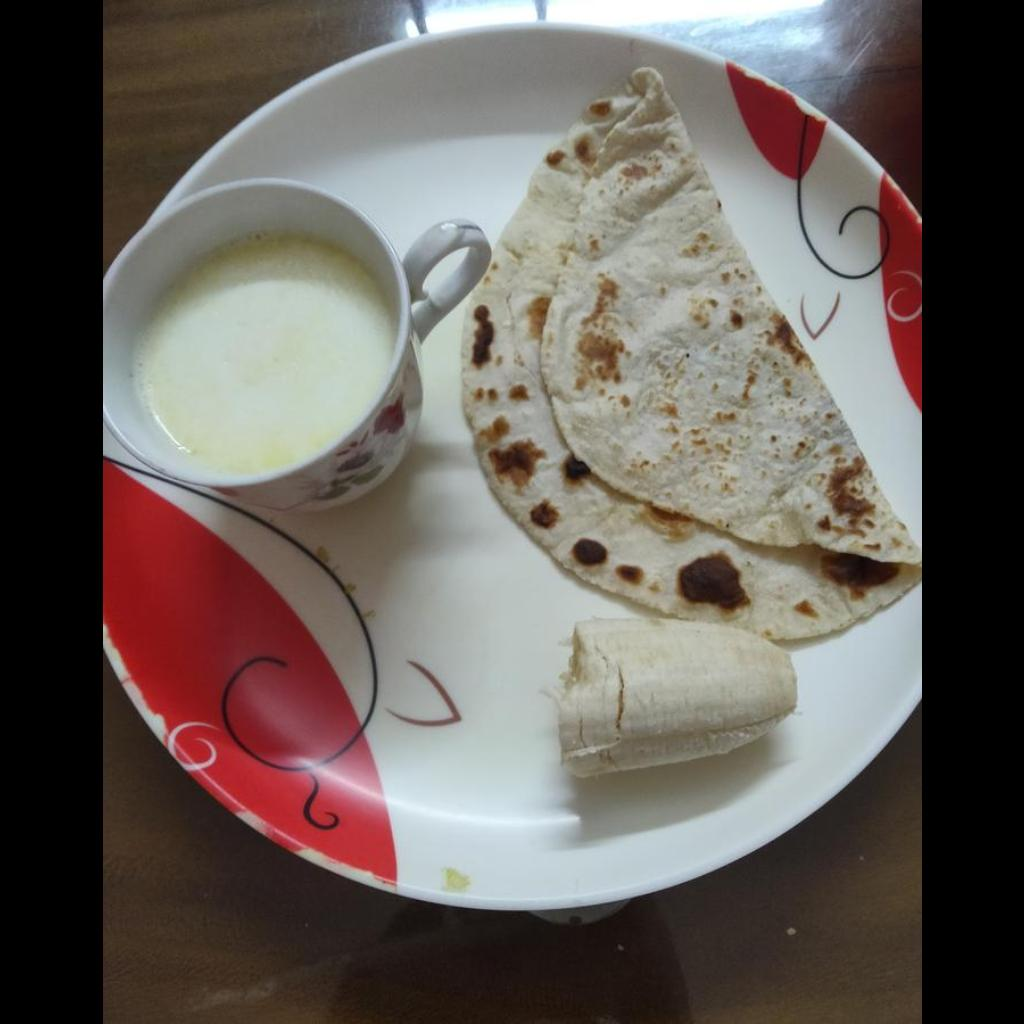banana: (551, 617, 799, 781)
milk: (131, 241, 394, 476)
ruti: (458, 62, 918, 636)
